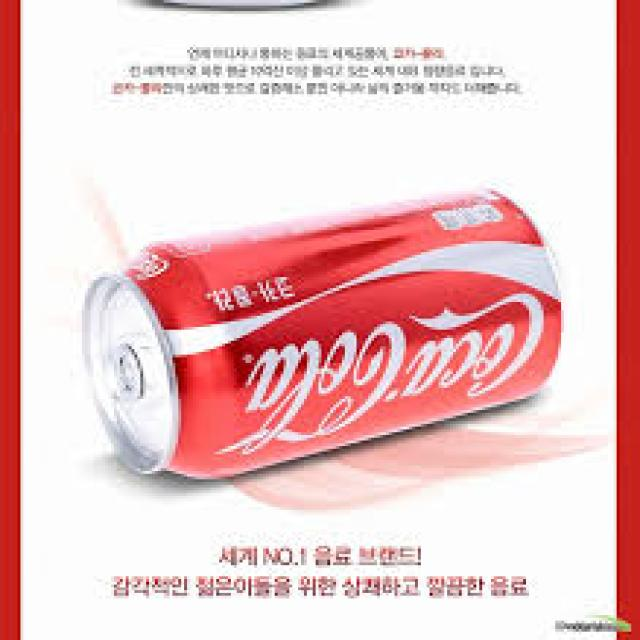Coca-Cola: (71, 183, 577, 486)
